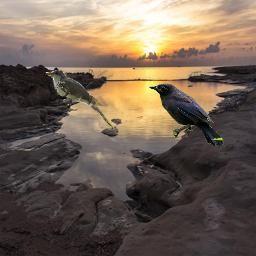Crow: (149, 83, 224, 146)
Cuckoo: (45, 70, 113, 129)
